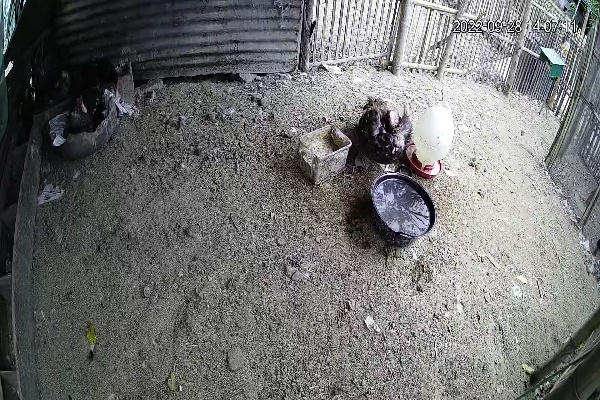Entog: (354, 95, 417, 170)
